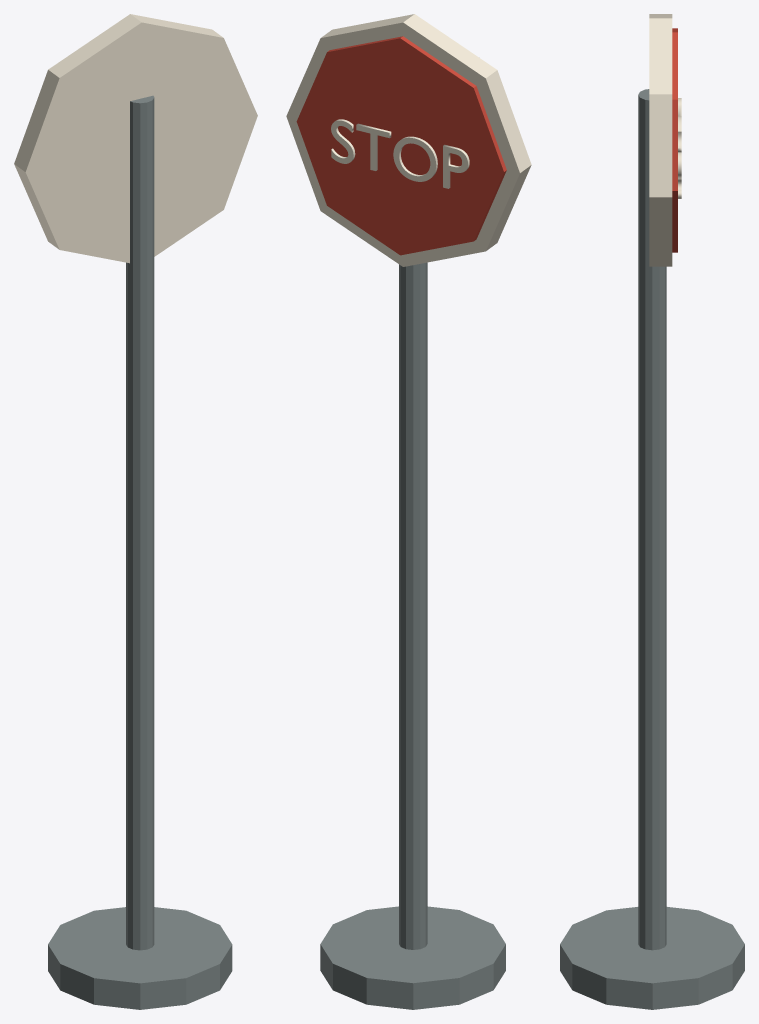
File: stop_sign.glb
3 views of the same model, side by side, from view 1: azimuth 30°, elevation 25°; view 2: azimuth 150°, elevation 25°; view 3: azimuth 270°, elevation 25° (orthographic).
Visible parts, largest first — view 1: stop_sign; view 2: stop_sign; view 3: stop_sign.
Boxes of the visible parts, x1,y1,x2,y2 form: stop_sign: (14,14,257,1009); stop_sign: (286,14,531,1009); stop_sign: (560,14,744,1009).
Size of the model in its own units: 0.64 by 2.5 by 0.44.
